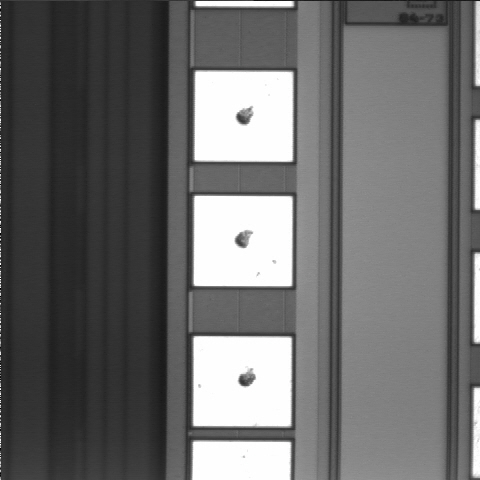pad: (195, 71, 293, 162), (193, 336, 292, 426), (194, 196, 292, 286)
